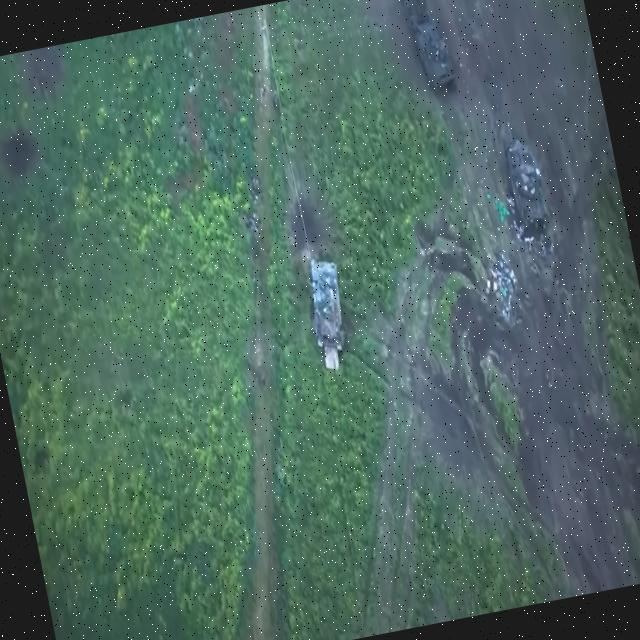AIFV: (301, 255, 360, 381), (504, 134, 555, 243)
MBT: (401, 1, 459, 95)
